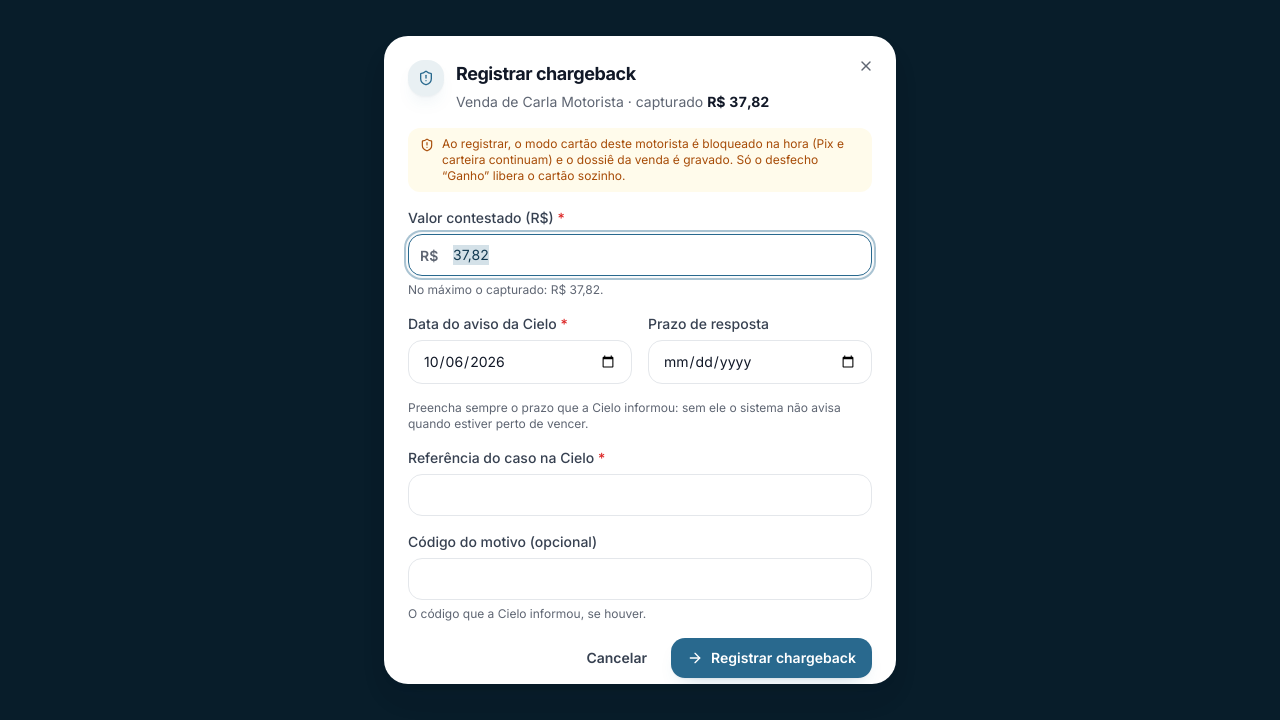
Test: RegisterChargebackDialog › não pede senha; o corpo leva o mínimo do contrato; depois do registro mostra o bloqueio do cartão e o dossiê
Expected: the field labelled "Valor contestado (R$) *" holds "37,82", [408, 234, 872, 276]
Click the button "Registrar chargeback" at (772, 658), box [671, 638, 872, 678]
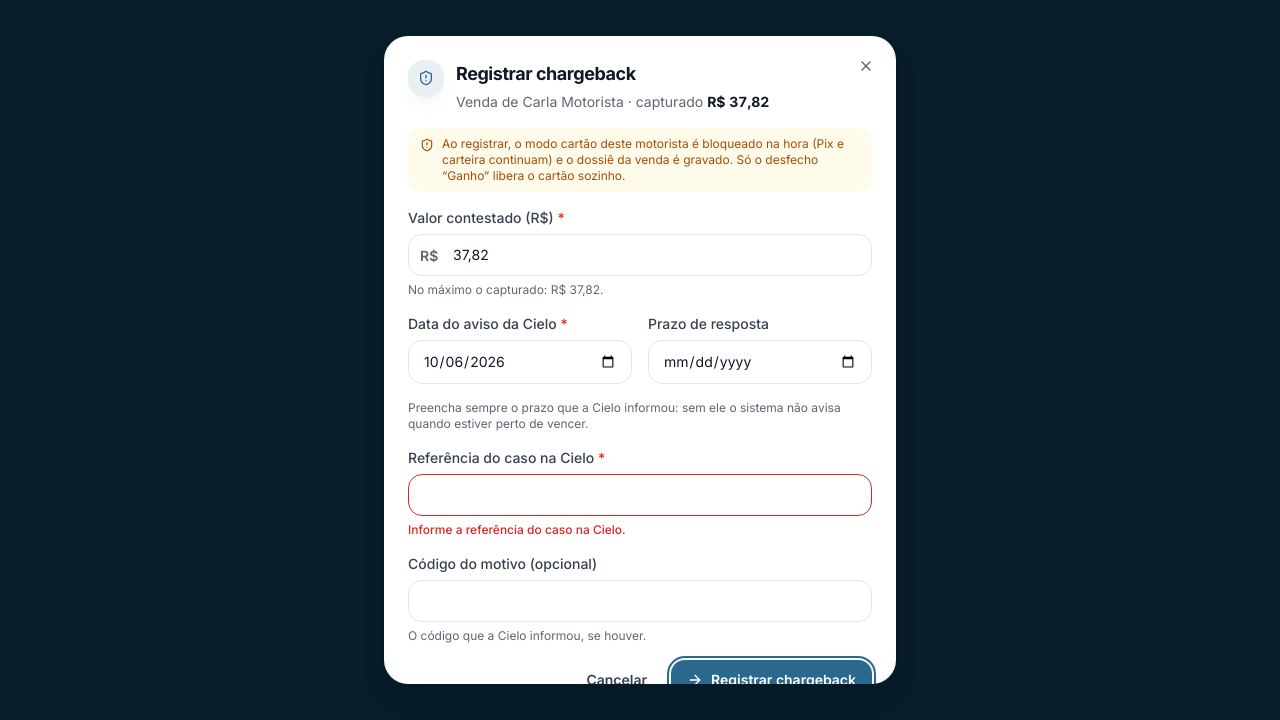
Expected: the text "Informe a referência do caso na Cielo." is shown, [408, 522, 626, 537]
Type "CASO-1" into the field labelled "Referência do caso na Cielo *" at (640, 495), box [408, 474, 872, 516]
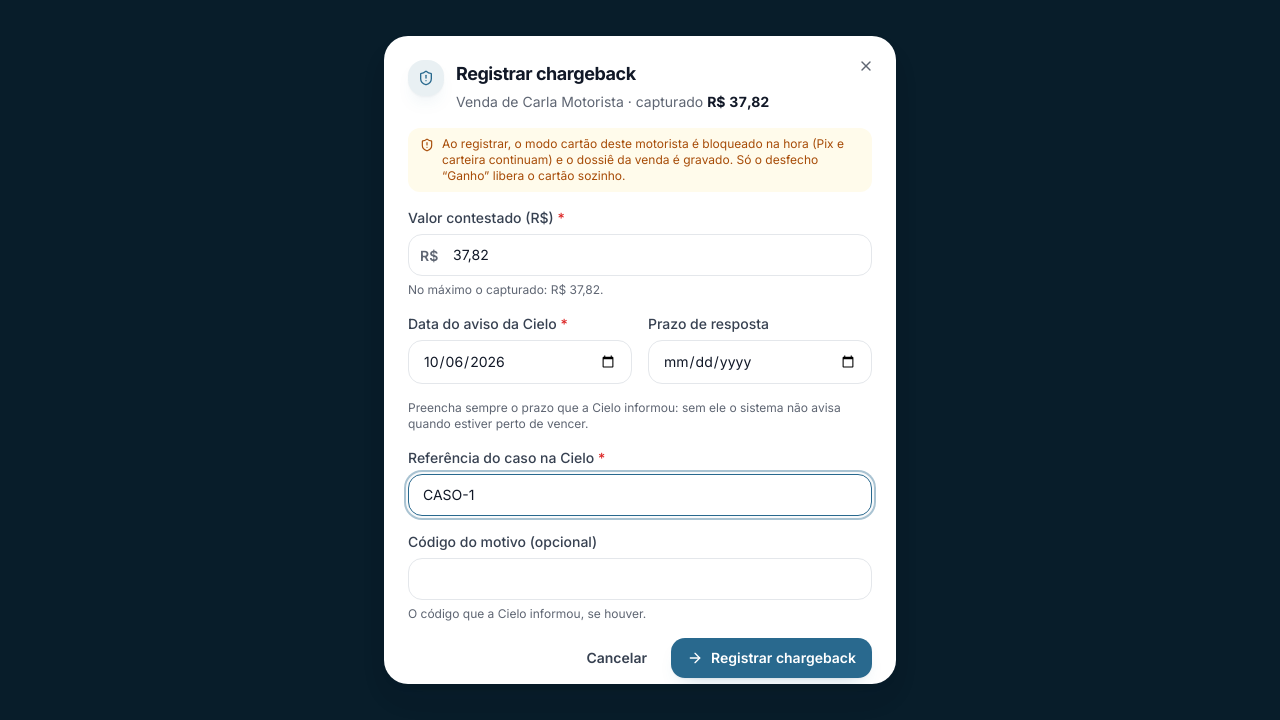
Click the button "Registrar chargeback" at (772, 658), box [671, 638, 872, 678]
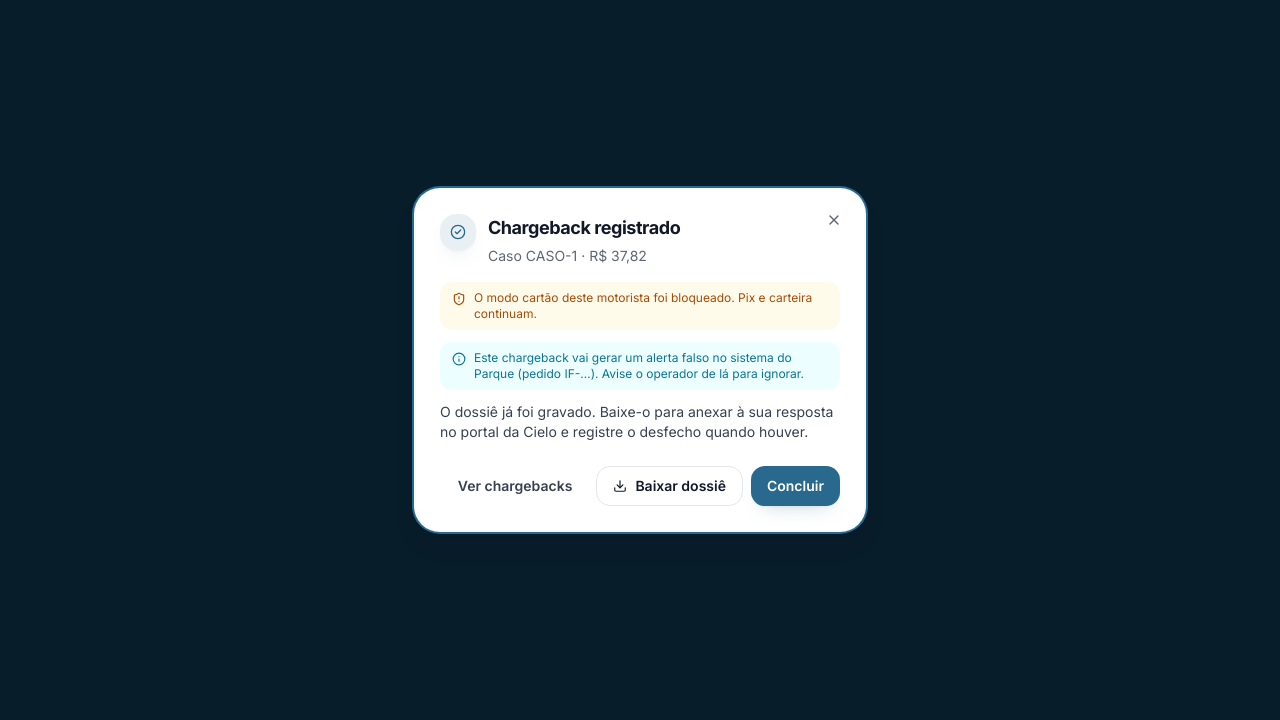
Expected: the message with test id "chargeback-card-blocked" reads "O modo cartão deste motorista foi bloqueado. Pix e carteira continuam.", [474, 290, 812, 321]
Expected: the button "Baixar dossiê" is shown, [596, 466, 743, 506]
